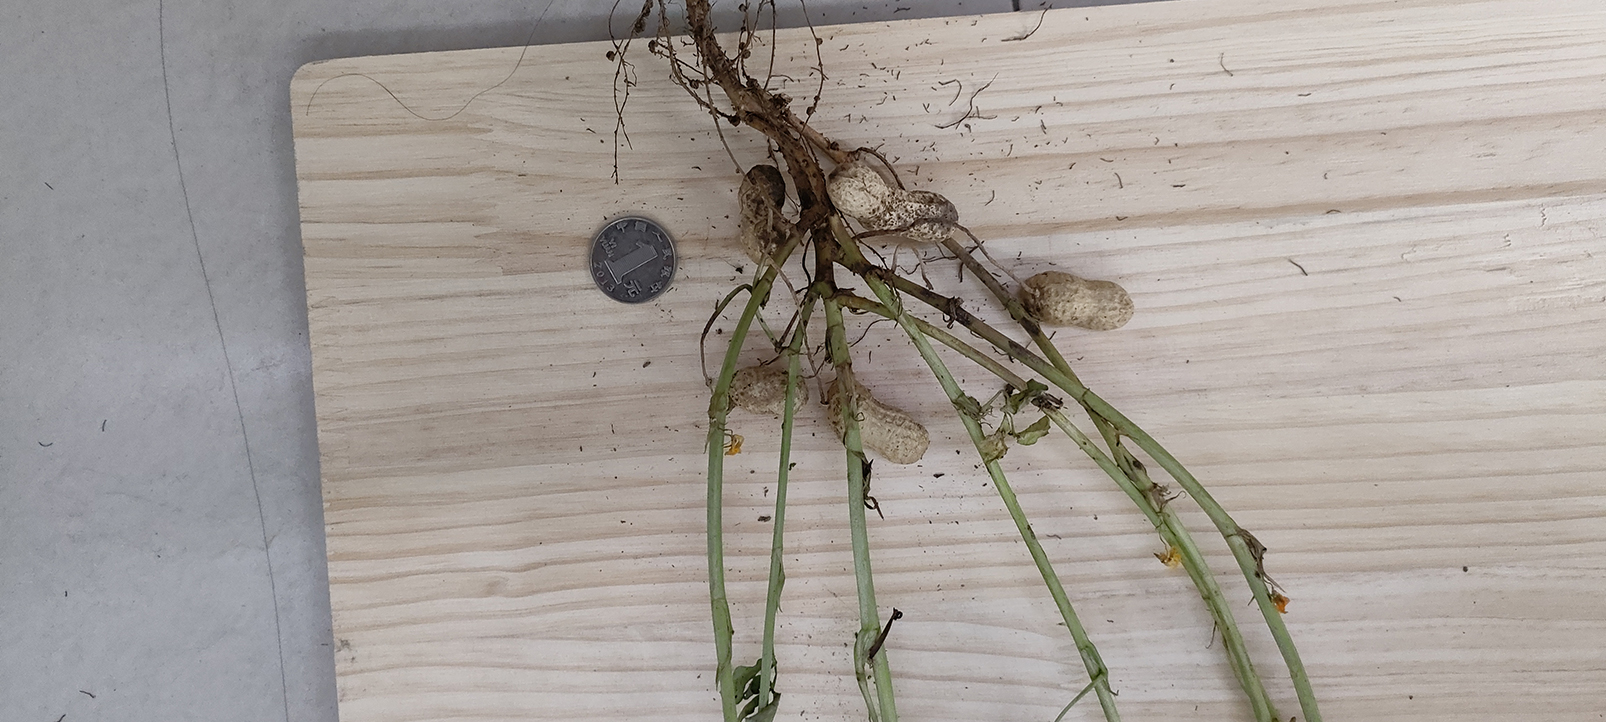h: (827, 161, 959, 242), (829, 379, 930, 464), (1023, 271, 1134, 330)
l: (737, 163, 786, 263), (730, 368, 809, 415)
